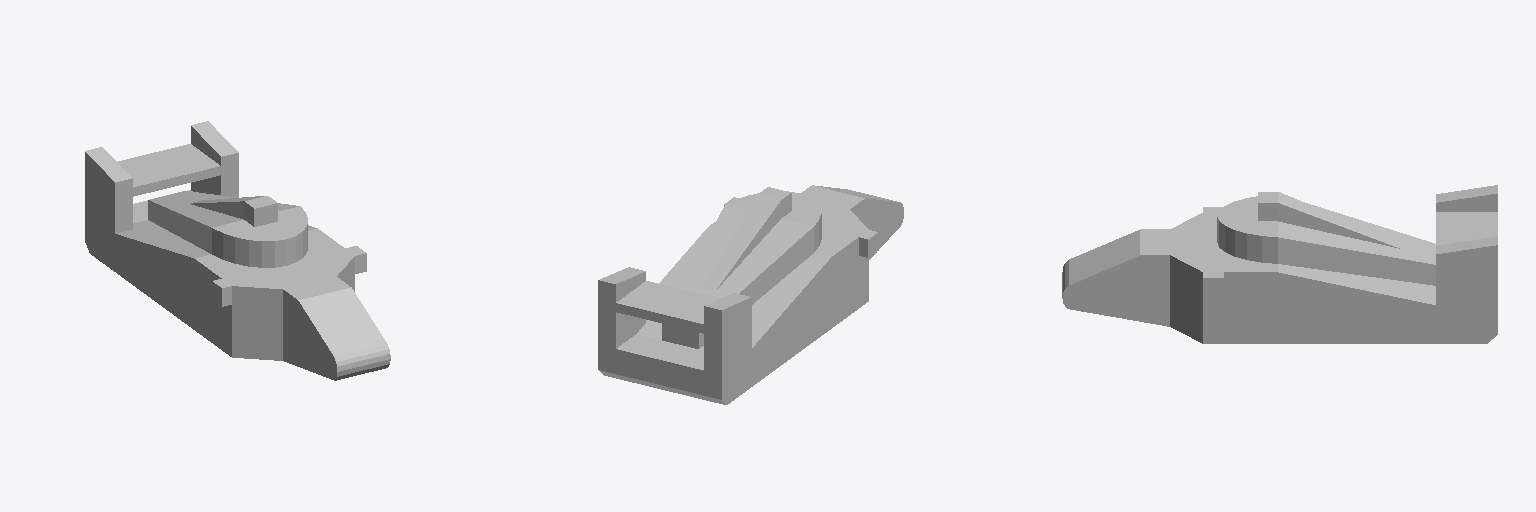
The model's file is race-buggy-def.obj.
The picture shows the model from 3 angles: view 1: azimuth 30°, elevation 25°; view 2: azimuth 150°, elevation 25°; view 3: azimuth 270°, elevation 25°; orthographic projection.
Parts seen in each view (by area): view 1: body; view 2: body; view 3: body.
Part boxes in pixels (x1,y1,x2,y2): body: (85, 121, 390, 380); body: (598, 185, 903, 404); body: (1062, 185, 1497, 343).
Size of the model in its own units: 0.8193 by 0.6325 by 2.14.